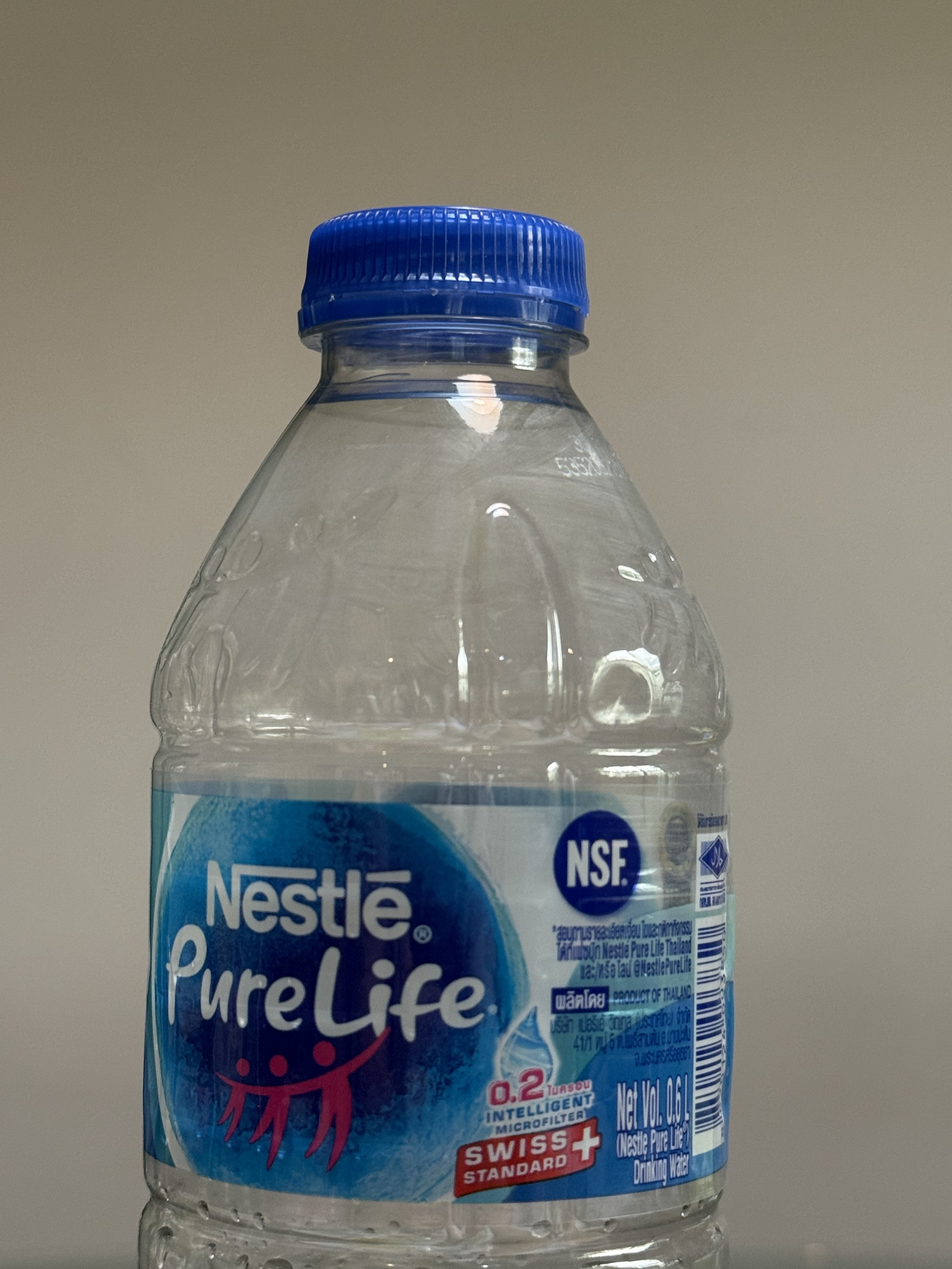closed_cap: (294, 200, 592, 350)
